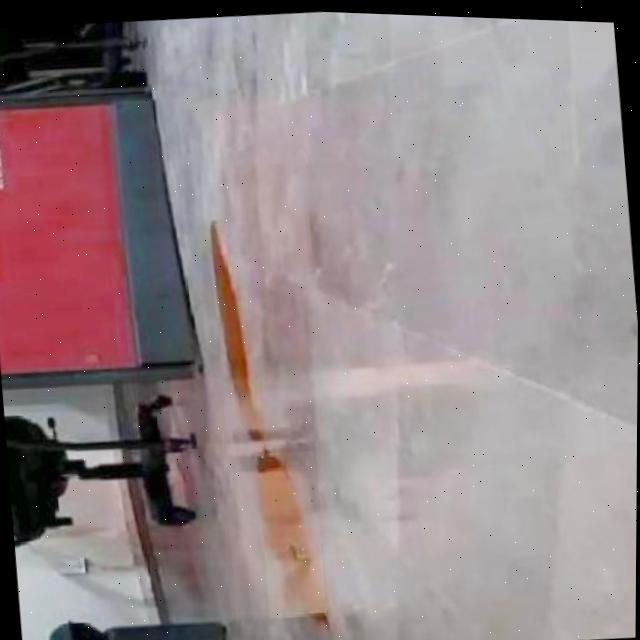spillage: (258, 451, 327, 611), (211, 221, 261, 425)
